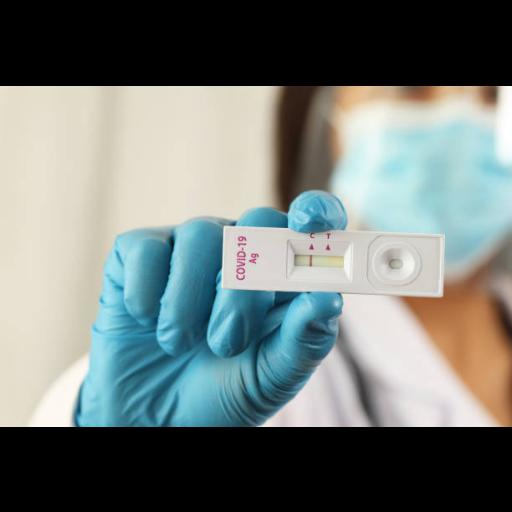Neg: (222, 225, 445, 296)
